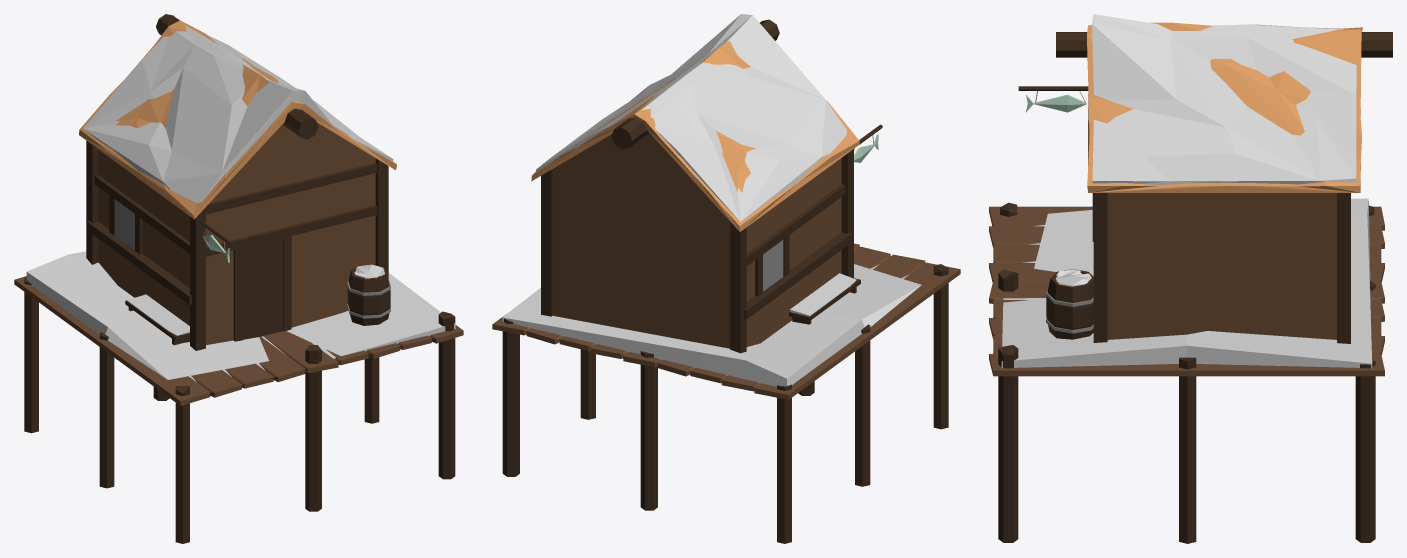
The model's file is fishery_house_snow_mat.fbx.
The picture shows the model from 3 angles, left to right: view 1: azimuth 30°, elevation 25°; view 2: azimuth 150°, elevation 25°; view 3: azimuth 270°, elevation 25°; orthographic projection. The views are drawn at different scales.
Parts seen in each view (by area): view 1: fishery_house_snow_mat; view 2: fishery_house_snow_mat; view 3: fishery_house_snow_mat.
Part boxes in pixels (box(x1,y1,x2,y2)): fishery_house_snow_mat: box(14, 14, 463, 543); fishery_house_snow_mat: box(492, 14, 960, 543); fishery_house_snow_mat: box(989, 14, 1392, 543).
Size of the model in its own units: 330 by 429 by 343.
